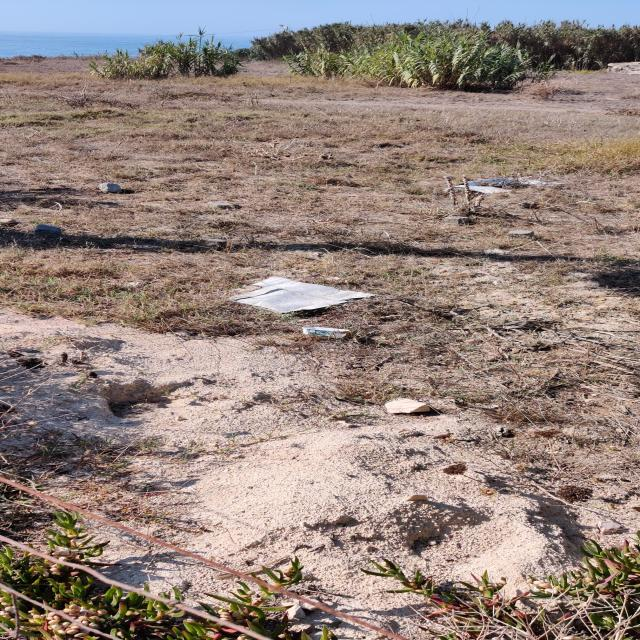litter: (204, 271, 392, 320), (443, 172, 572, 202)
